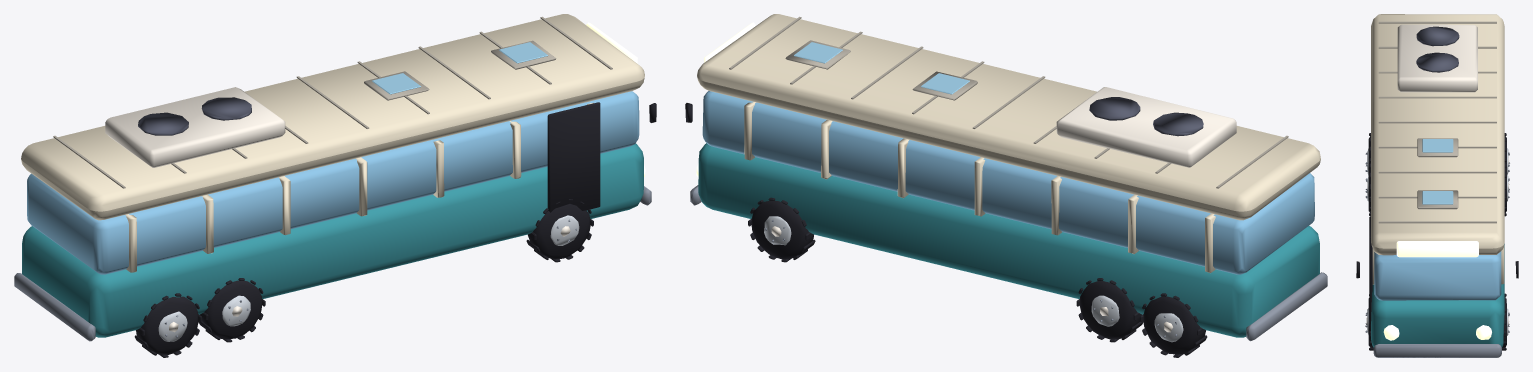
File: bus.glb
3 renders of one model, left to right at view 1: azimuth 30°, elevation 25°; view 2: azimuth 150°, elevation 25°; view 3: azimuth 270°, elevation 25°, orthographic. The views are drawn at different scales.
Parts seen in each view (by area): view 1: bus; view 2: bus; view 3: bus.
Boxes of the visible parts, box(x1,y1,x2,y2) form: bus: box(14, 14, 656, 357); bus: box(685, 14, 1327, 357); bus: box(1356, 14, 1518, 357).
Bounding box in the file's own units: 10.67 × 3.54 × 3.16.
1 material, 1 textured.
